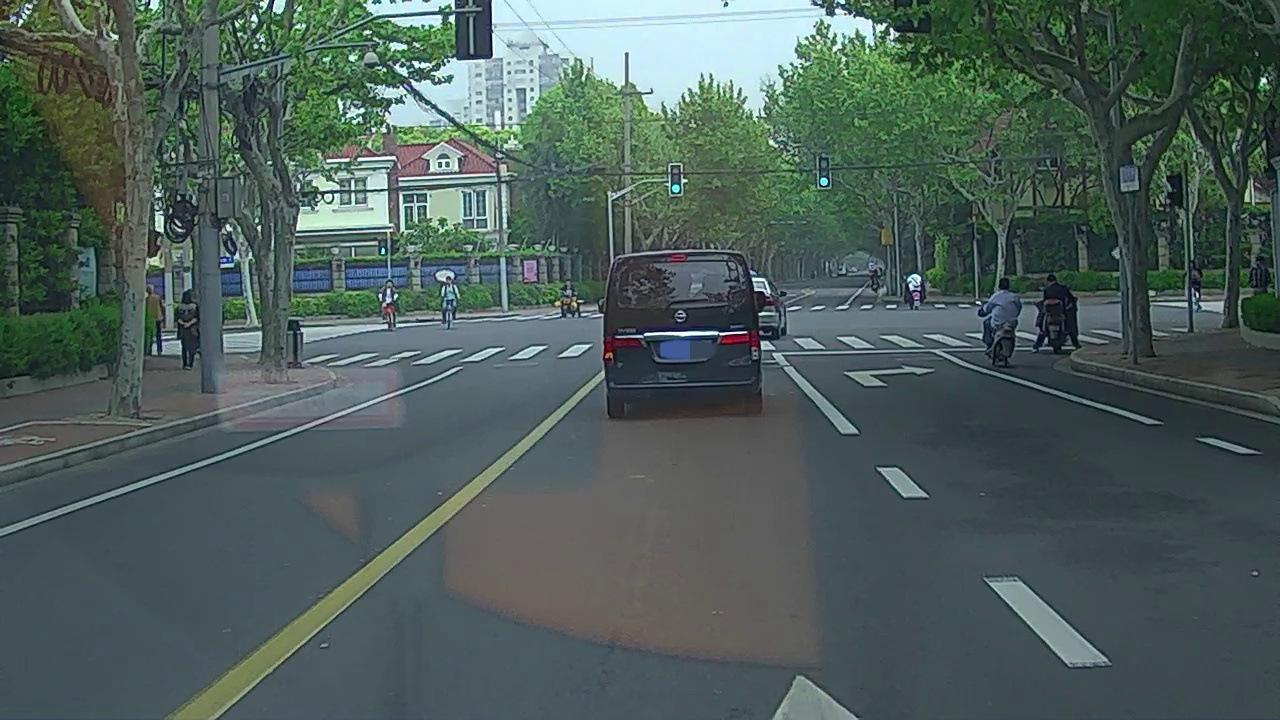traffic_light: (817, 159, 831, 188), (669, 164, 682, 195)
